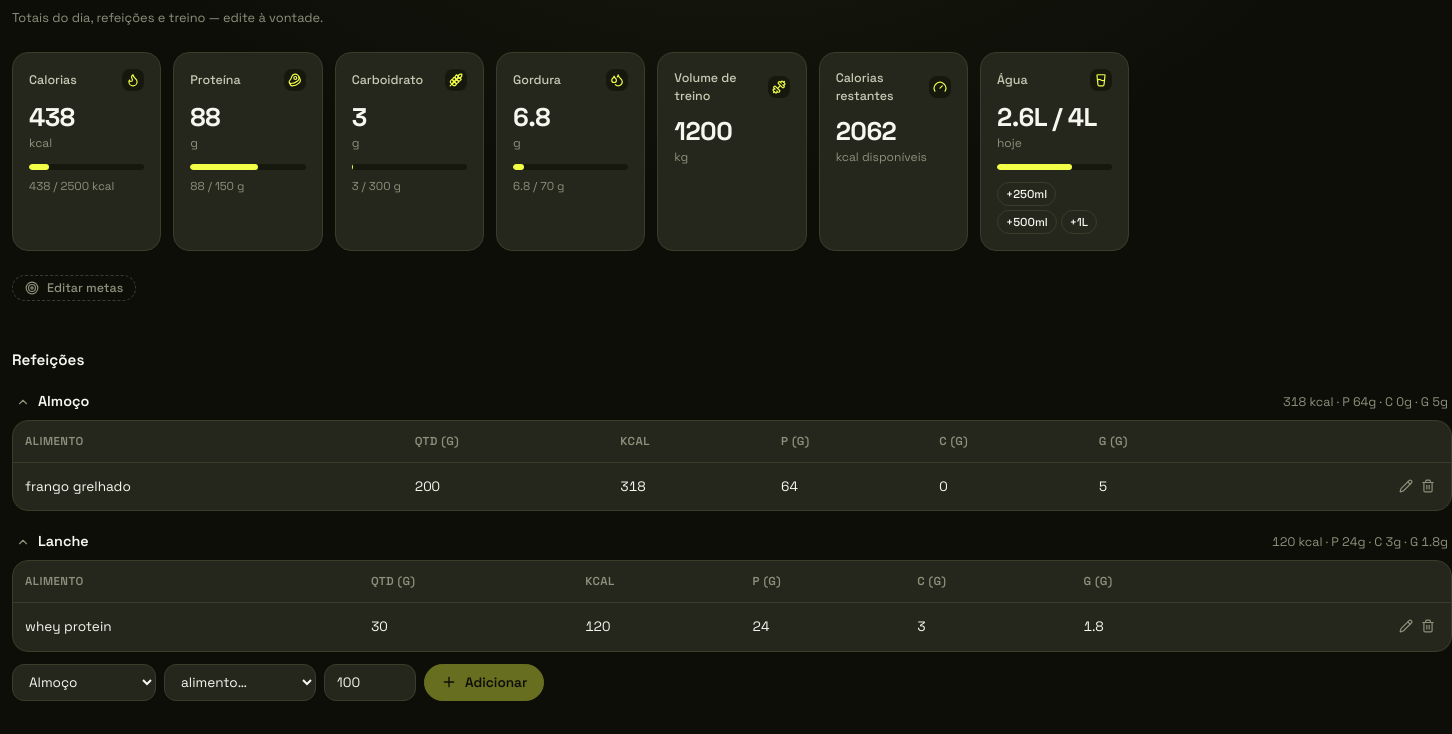
Diario › edita refeição e série de ponta a ponta
Click the button named "editar frango grelhado": (1406, 486) x1=1395 y1=475 x2=1417 y2=497
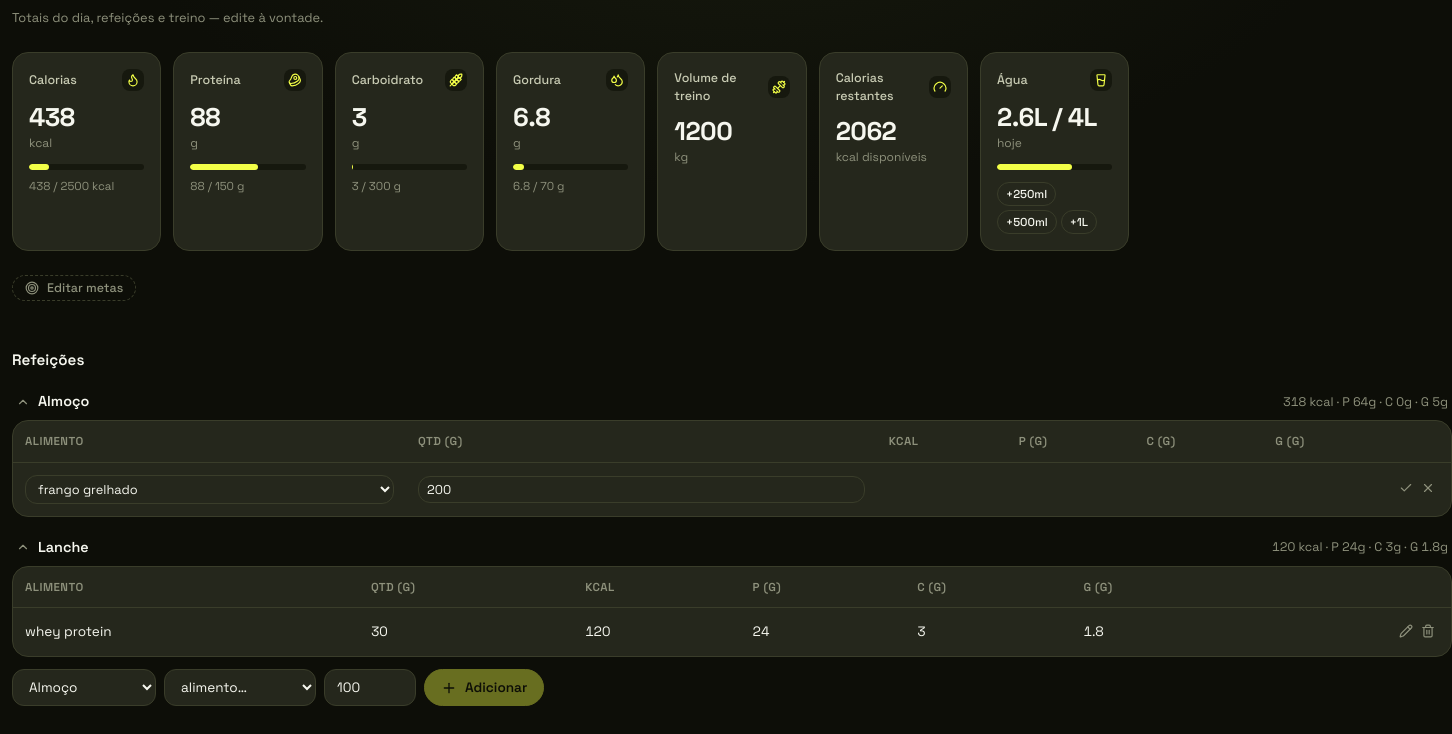
Replace the text in the number field named "editar gramas" with "250": (642, 489) x1=418 y1=476 x2=865 y2=503
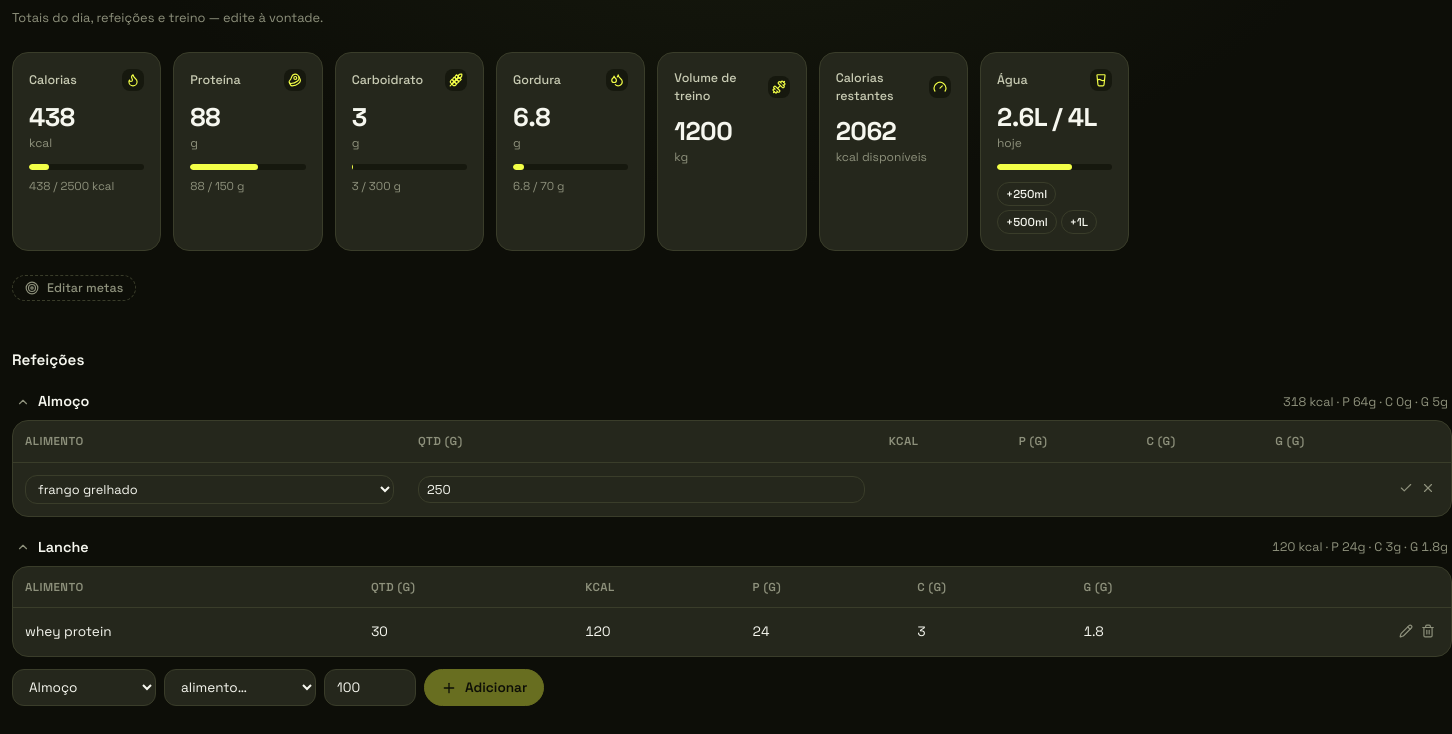
Click the button named "salvar frango grelhado": (1406, 488) x1=1395 y1=477 x2=1417 y2=499
(page scrolled)
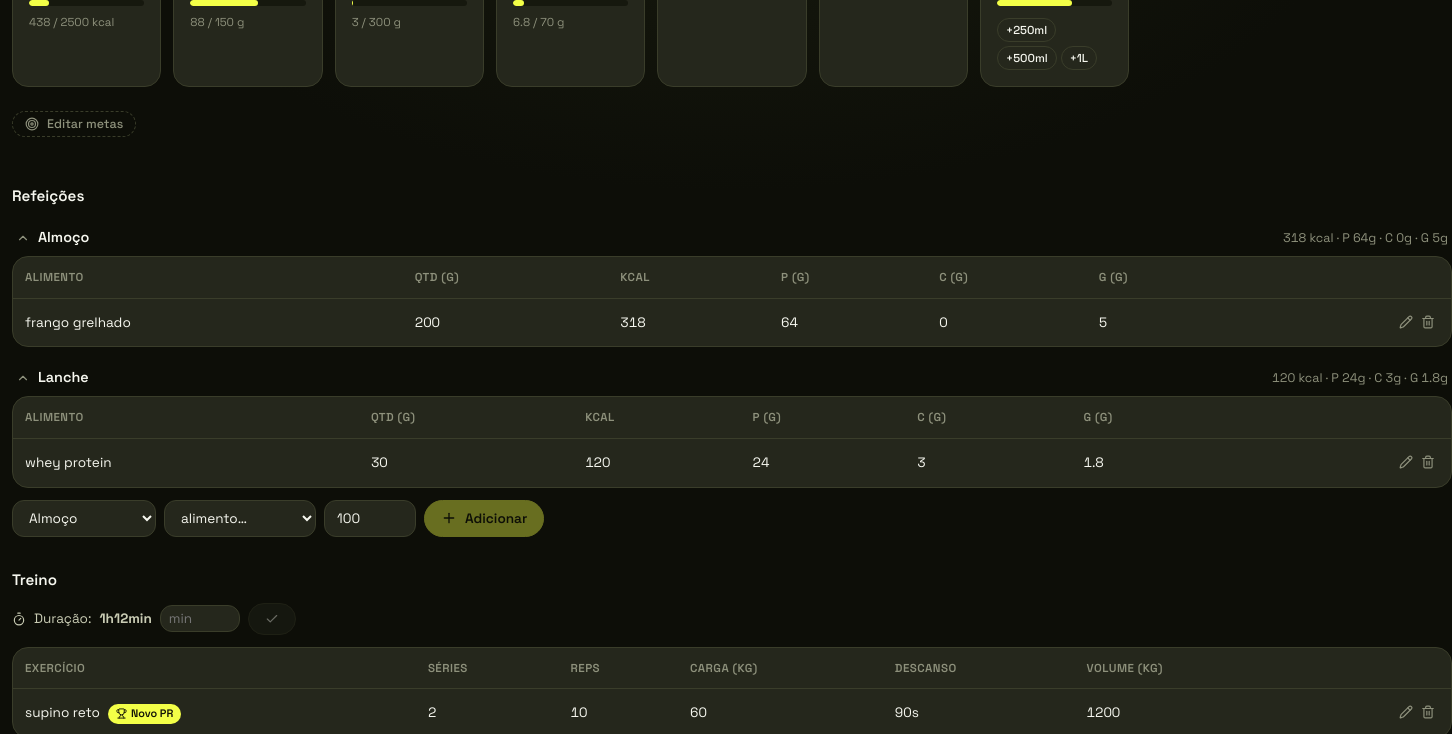
Click the button named "editar supino reto": (1406, 712) x1=1395 y1=702 x2=1417 y2=724
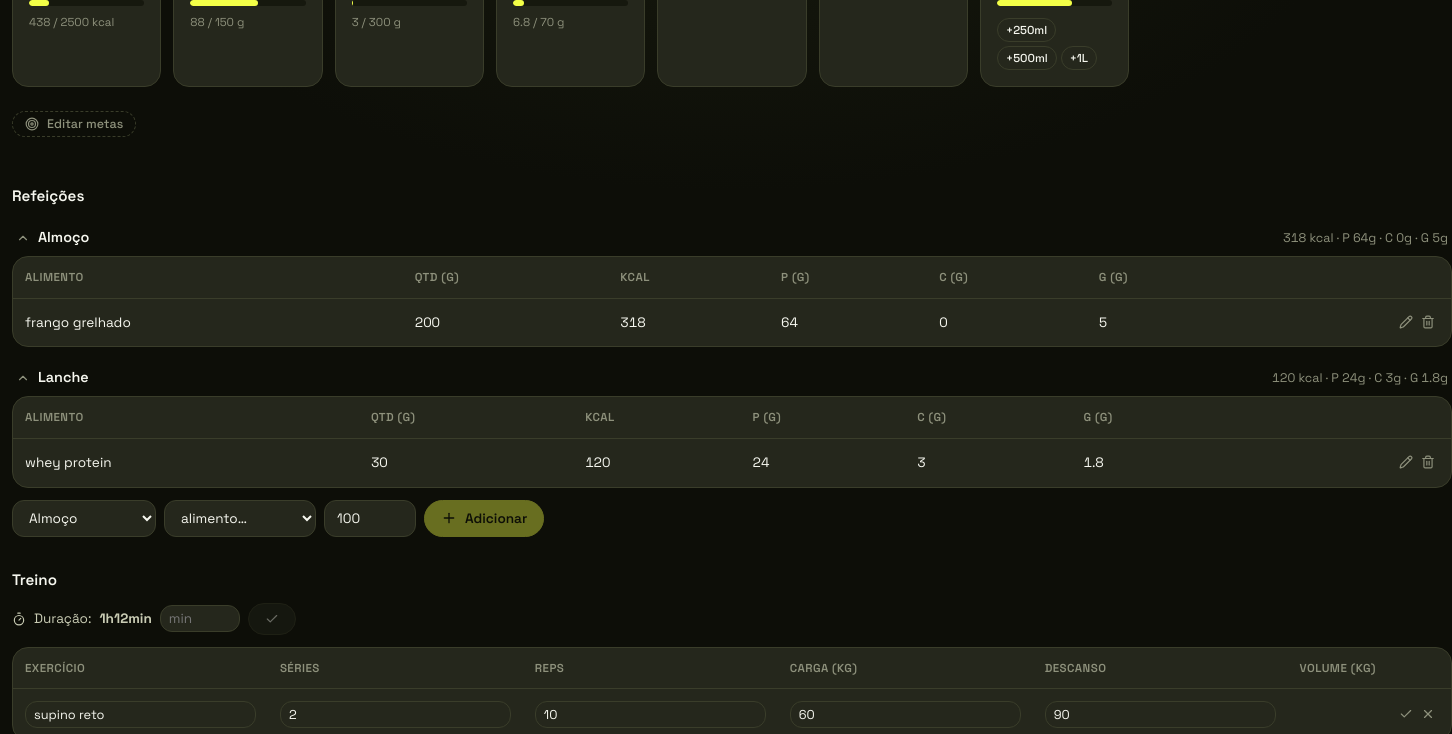
Replace the text in the number field named "editar carga" with "65": (905, 715) x1=790 y1=702 x2=1021 y2=728
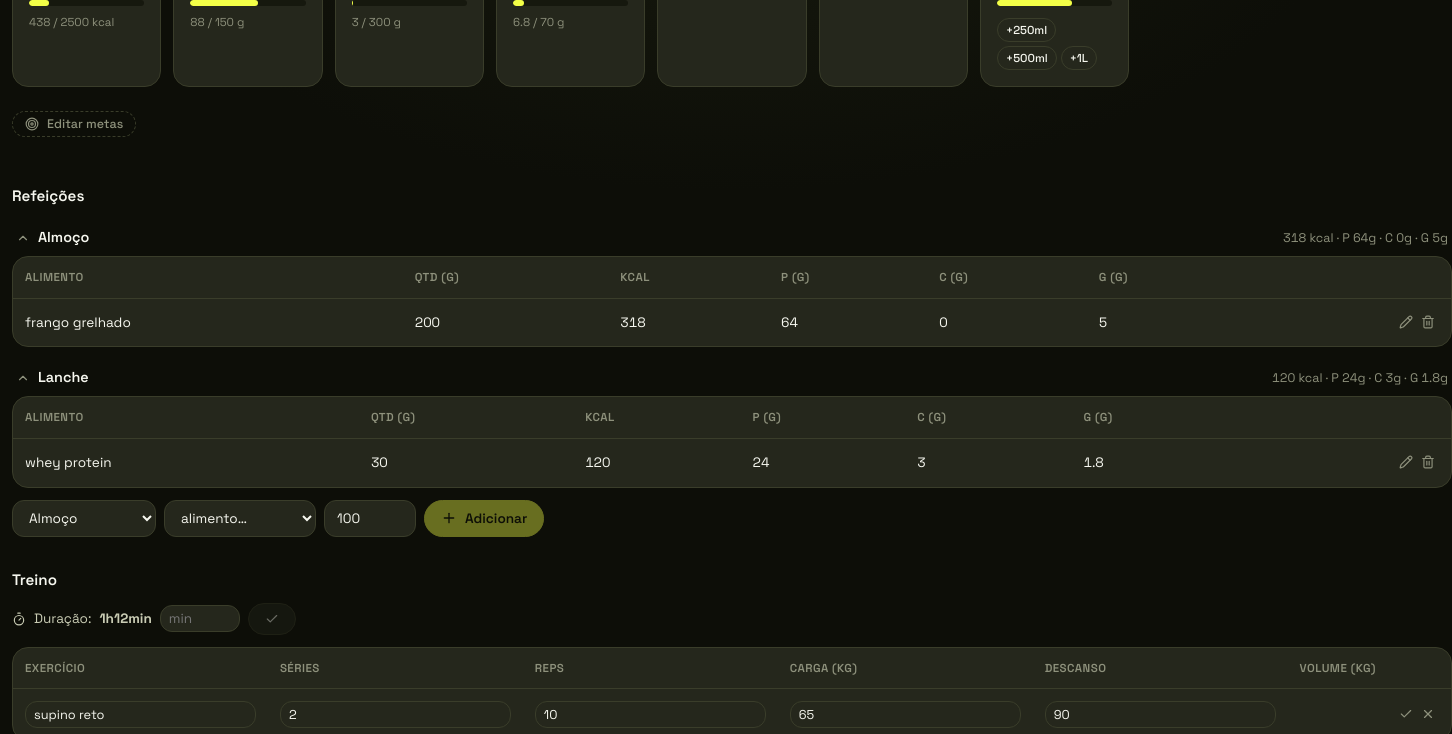
Click the button named "salvar supino reto": (1406, 714) x1=1395 y1=703 x2=1417 y2=725
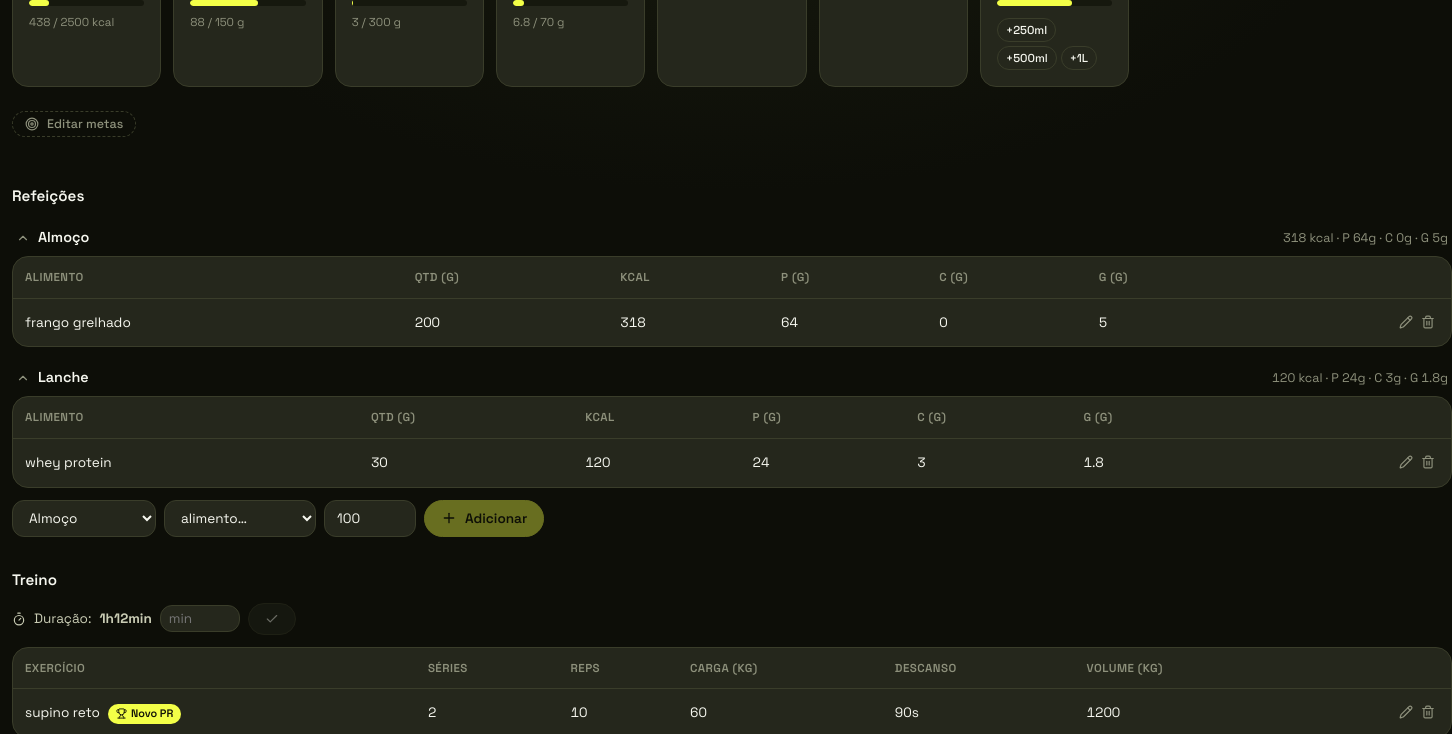
Expected: the button named "editar supino reto" is shown, x1=1395 y1=702 x2=1417 y2=724
